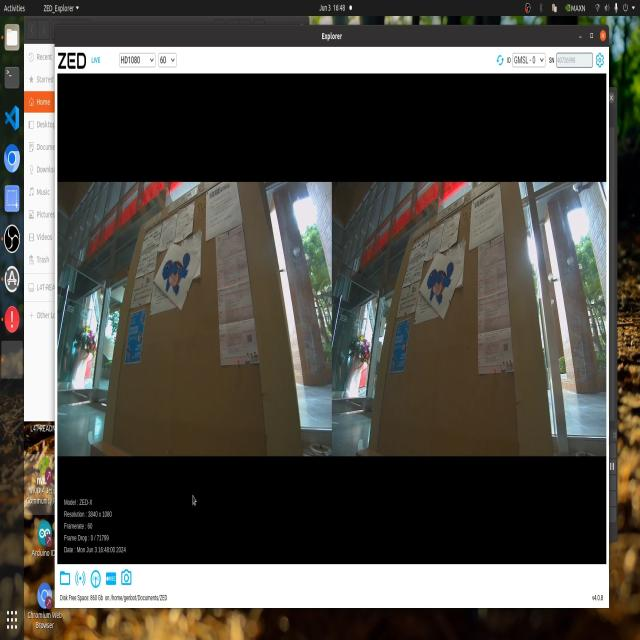blue: (153, 252, 195, 304), (412, 251, 455, 300)
